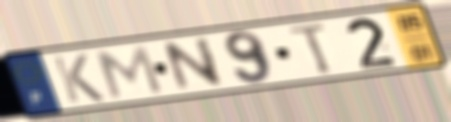2: (345, 16, 399, 71)
9: (220, 29, 276, 87)
K: (49, 52, 108, 105)
M: (93, 44, 167, 101)
N: (160, 35, 228, 94)
T: (285, 20, 338, 77)
